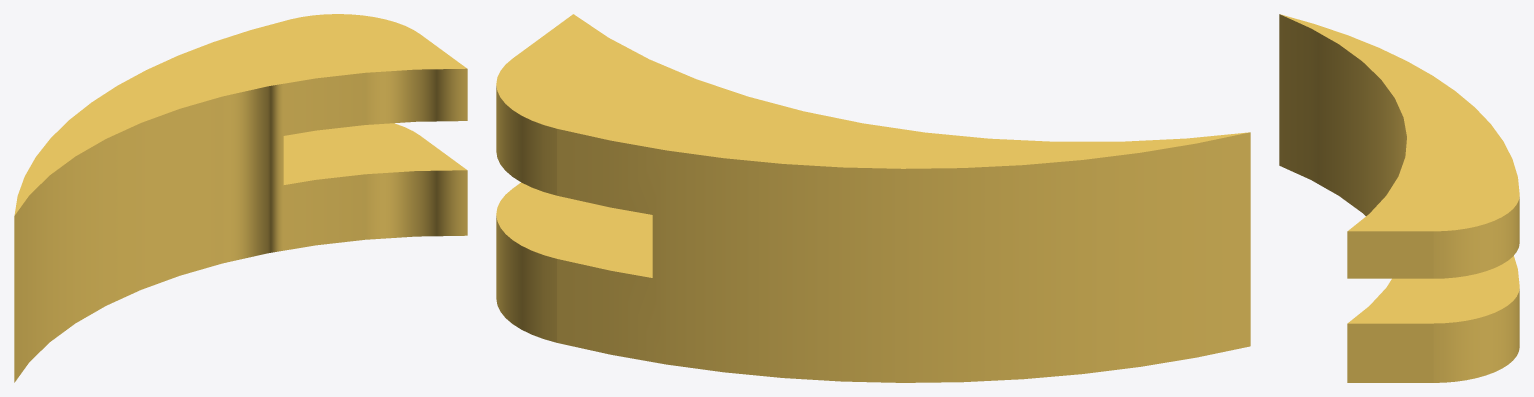
The model's file is original-3.obj.
The picture shows the model from 3 angles, left to right: view 1: azimuth 30°, elevation 25°; view 2: azimuth 150°, elevation 25°; view 3: azimuth 270°, elevation 25°; orthographic projection. The views are drawn at different scales.
Visible parts, largest first — view 1: _5_1/_5/mesh14/mesh14-geometry#mesh14-geometry; view 2: _5_1/_5/mesh14/mesh14-geometry#mesh14-geometry; view 3: _5_1/_5/mesh14/mesh14-geometry#mesh14-geometry.
Boxes of the visible parts, left/top/right/bottom form: _5_1/_5/mesh14/mesh14-geometry#mesh14-geometry: left=14, top=14, right=467, bottom=382; _5_1/_5/mesh14/mesh14-geometry#mesh14-geometry: left=496, top=14, right=1250, bottom=382; _5_1/_5/mesh14/mesh14-geometry#mesh14-geometry: left=1279, top=14, right=1519, bottom=382.
Size of the model in its own units: 0.4208 by 0.1368 by 0.1968.
